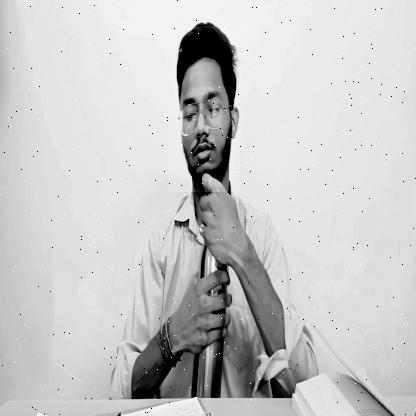Normal: (167, 26, 240, 192)
